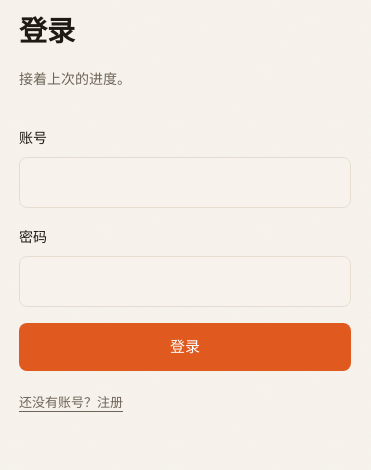
AuthPage › 登录失败时原样显示服务端文案（契约延续）
This screenshot has width=371, height=470.
Type "tester" into the field labelled "账号" at {"x": 185, "y": 183}, box [19,157,351,208]
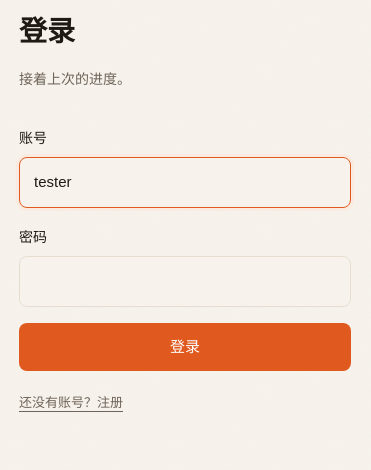
Type "wrong" into the password field labelled "密码" at {"x": 185, "y": 282}, box [19,256,351,307]
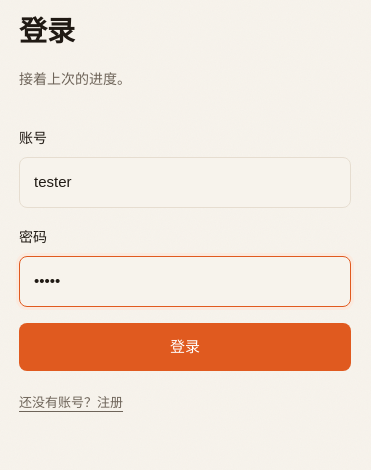
Click the button "登录" at {"x": 185, "y": 347}, box [19,323,351,372]
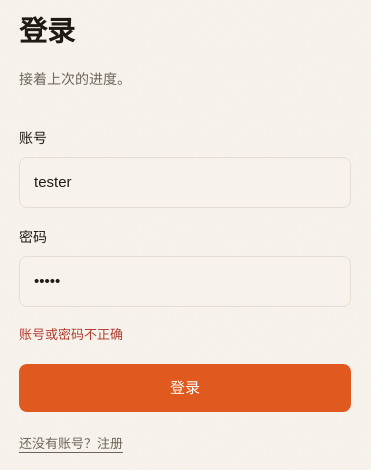
Now the text "账号或密码不正确" is shown, box [19,327,123,342]
